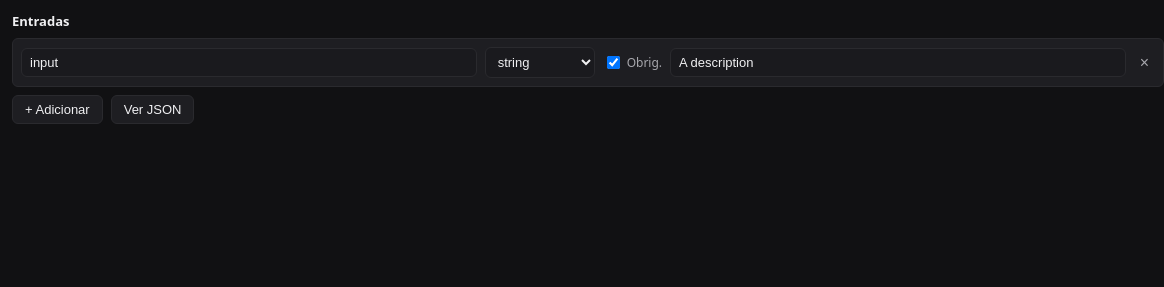
PortsEditor › 'Ver JSON' mostra o JSON com description
Click the button "Ver JSON" at x=153, y=110, box [111,95,194,124]
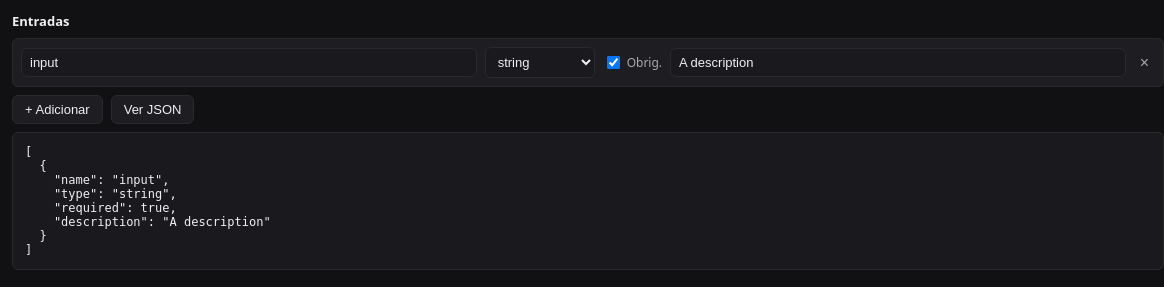
Expected: the text "\"description\": \"A description\"" is shown, [25,145,271,257]
